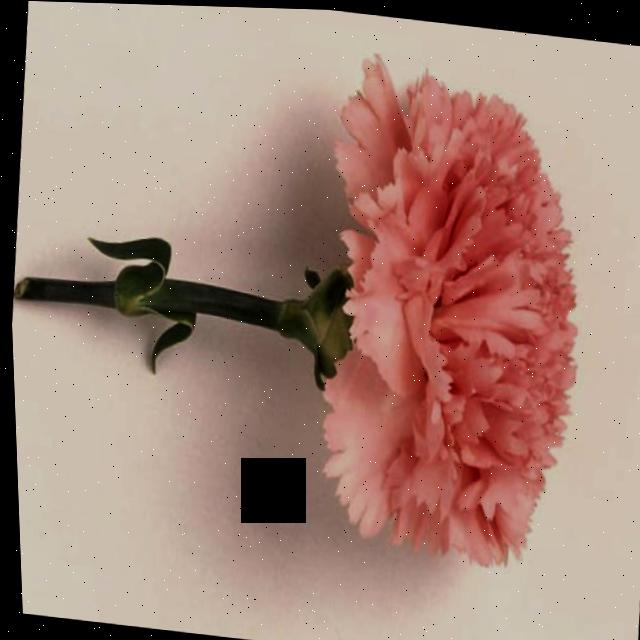carnation: (232, 50, 620, 630)
